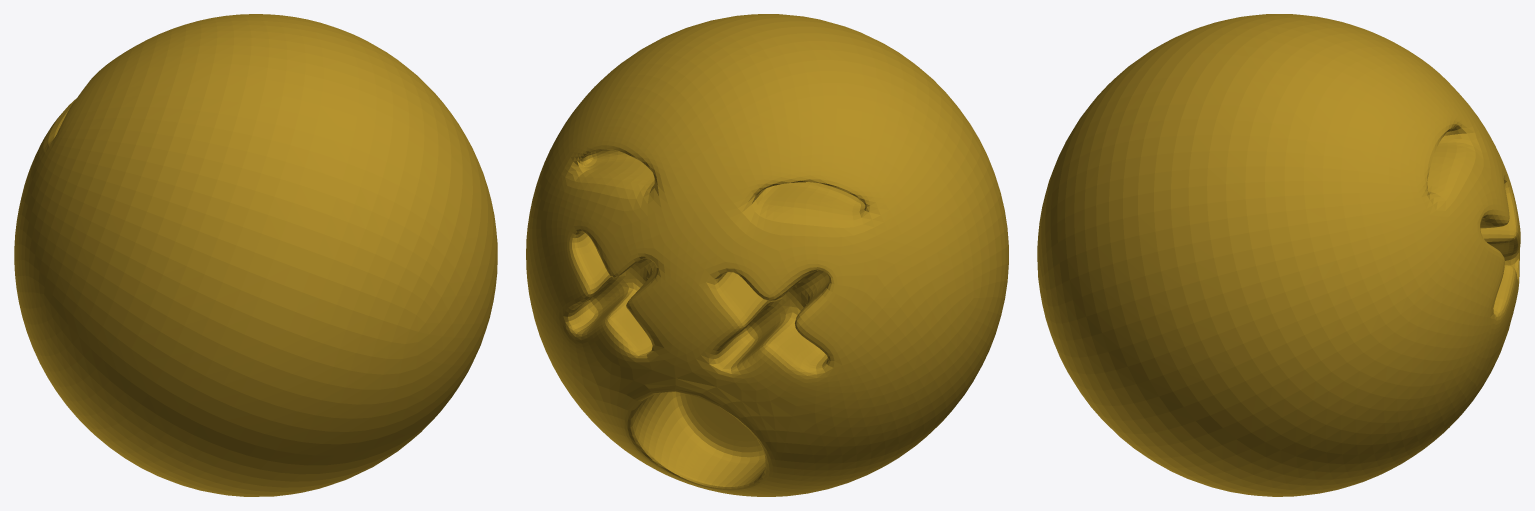
The model's file is dizzy.obj.
3 renders of one model, left to right at view 1: azimuth 30°, elevation 25°; view 2: azimuth 150°, elevation 25°; view 3: azimuth 270°, elevation 25°, orthographic.
Visible parts, largest first — view 1: Group9112; view 2: Group9112; view 3: Group9112.
Boxes of the visible parts, x1,y1,x2,y2 form: Group9112: (14,14,497,496); Group9112: (526,14,1008,496); Group9112: (1037,14,1520,496).
Bounding box in the file's own units: 2.06 × 2.05 × 2.06.
